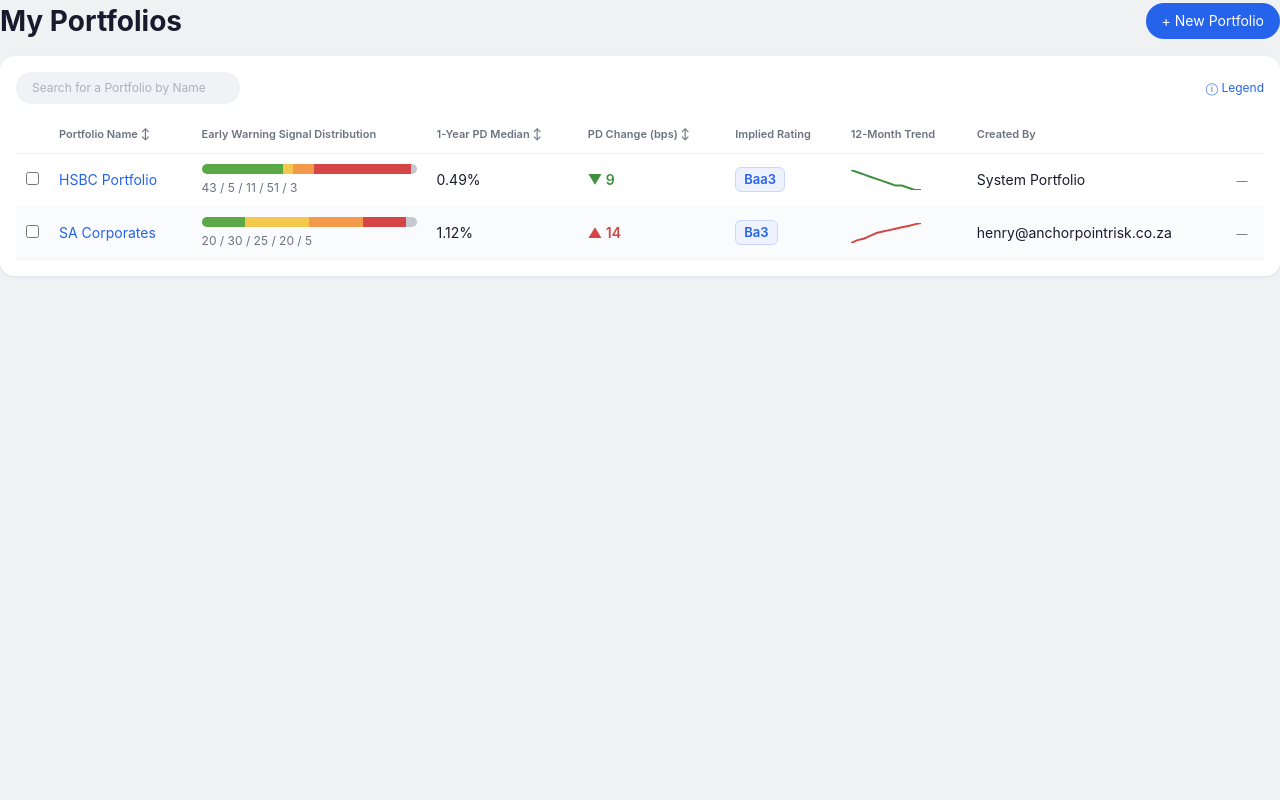
Test: Create portfolio › creates a portfolio and navigates to its (empty) detail page
Expected: the heading "My Portfolios" is shown, [0,0,182,42]
Click the button "+ New Portfolio".
click(1213, 21)  # box [1146,3,1279,39]
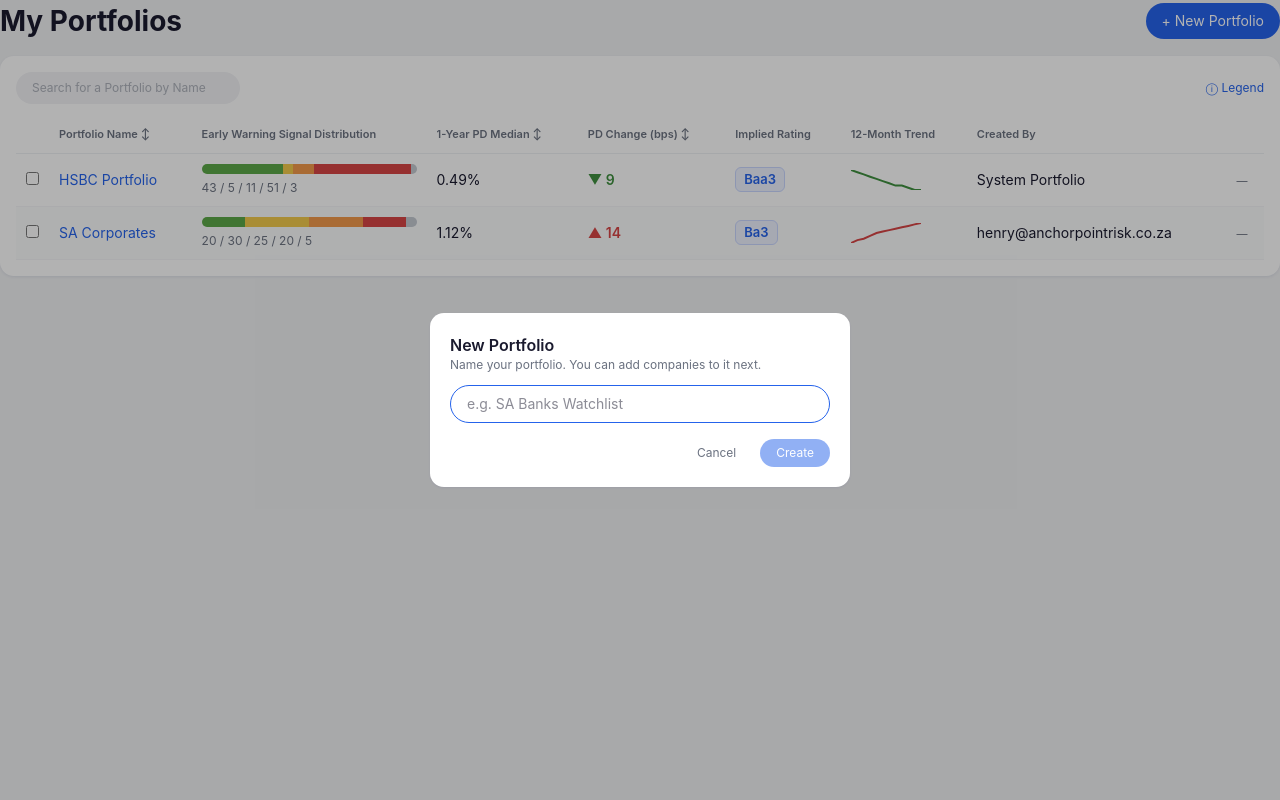
Type "SA Banks" into the field with placeholder "e.g. SA Banks Watchlist".
click(640, 404); type("SA Banks")  # box [450,385,830,423]
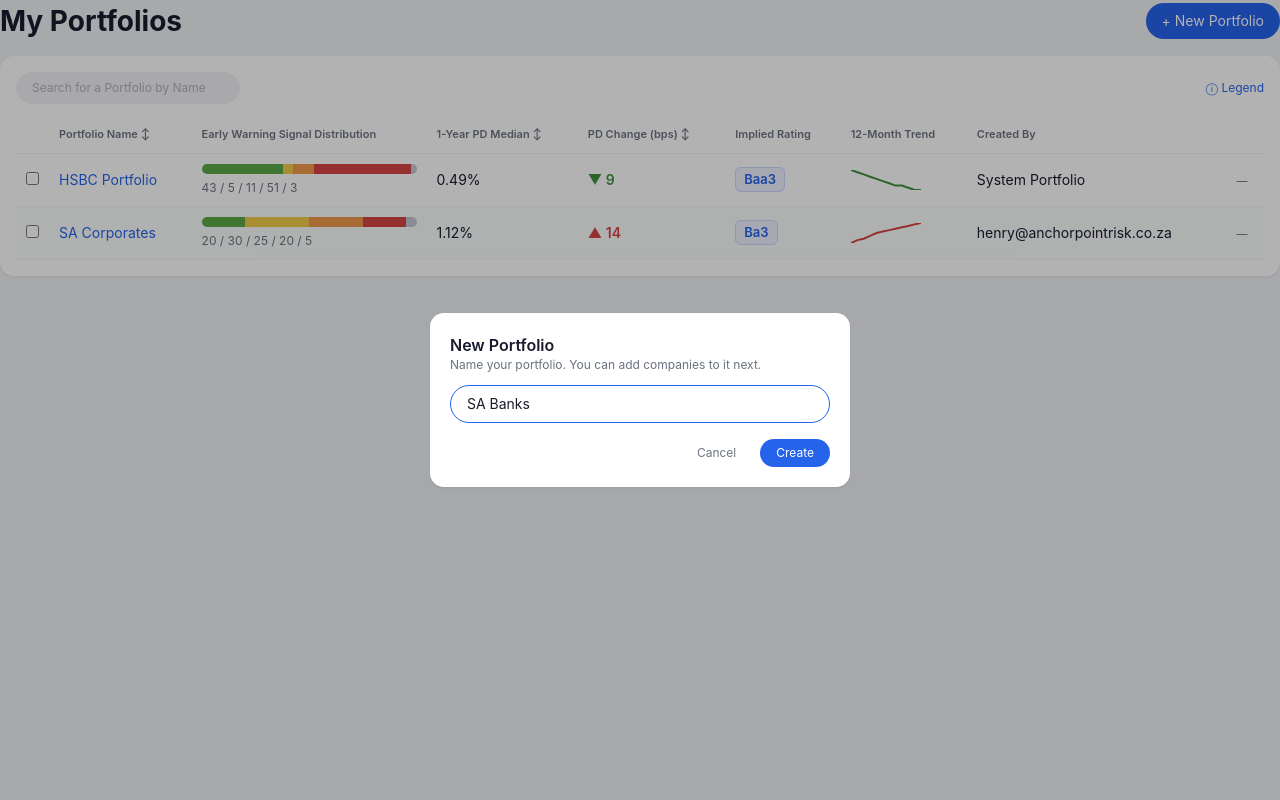
Click the button "Create".
click(795, 453)  # box [760,439,830,467]
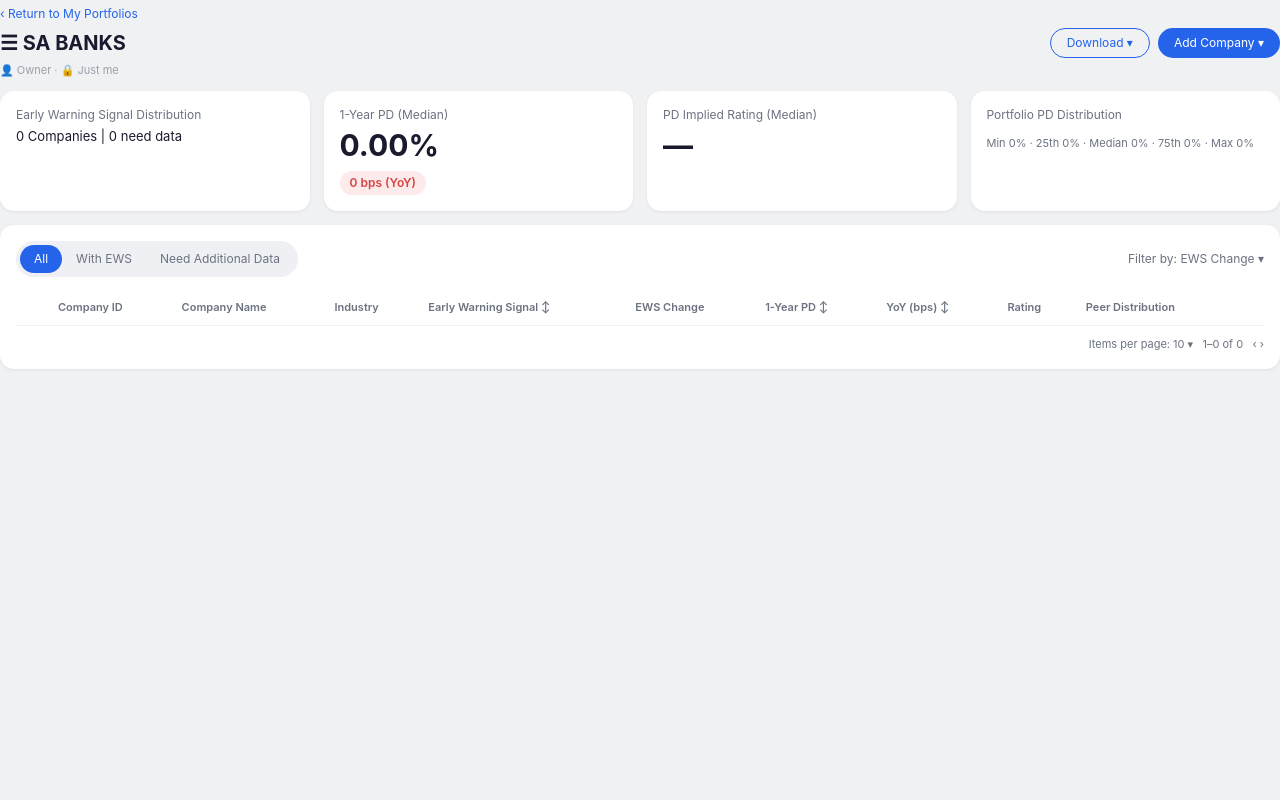
Expected: the heading "☰ SA BANKS" is shown, [0,29,126,57]
Expected: the button "Add Company ▾" is shown, [1158,28,1279,58]
